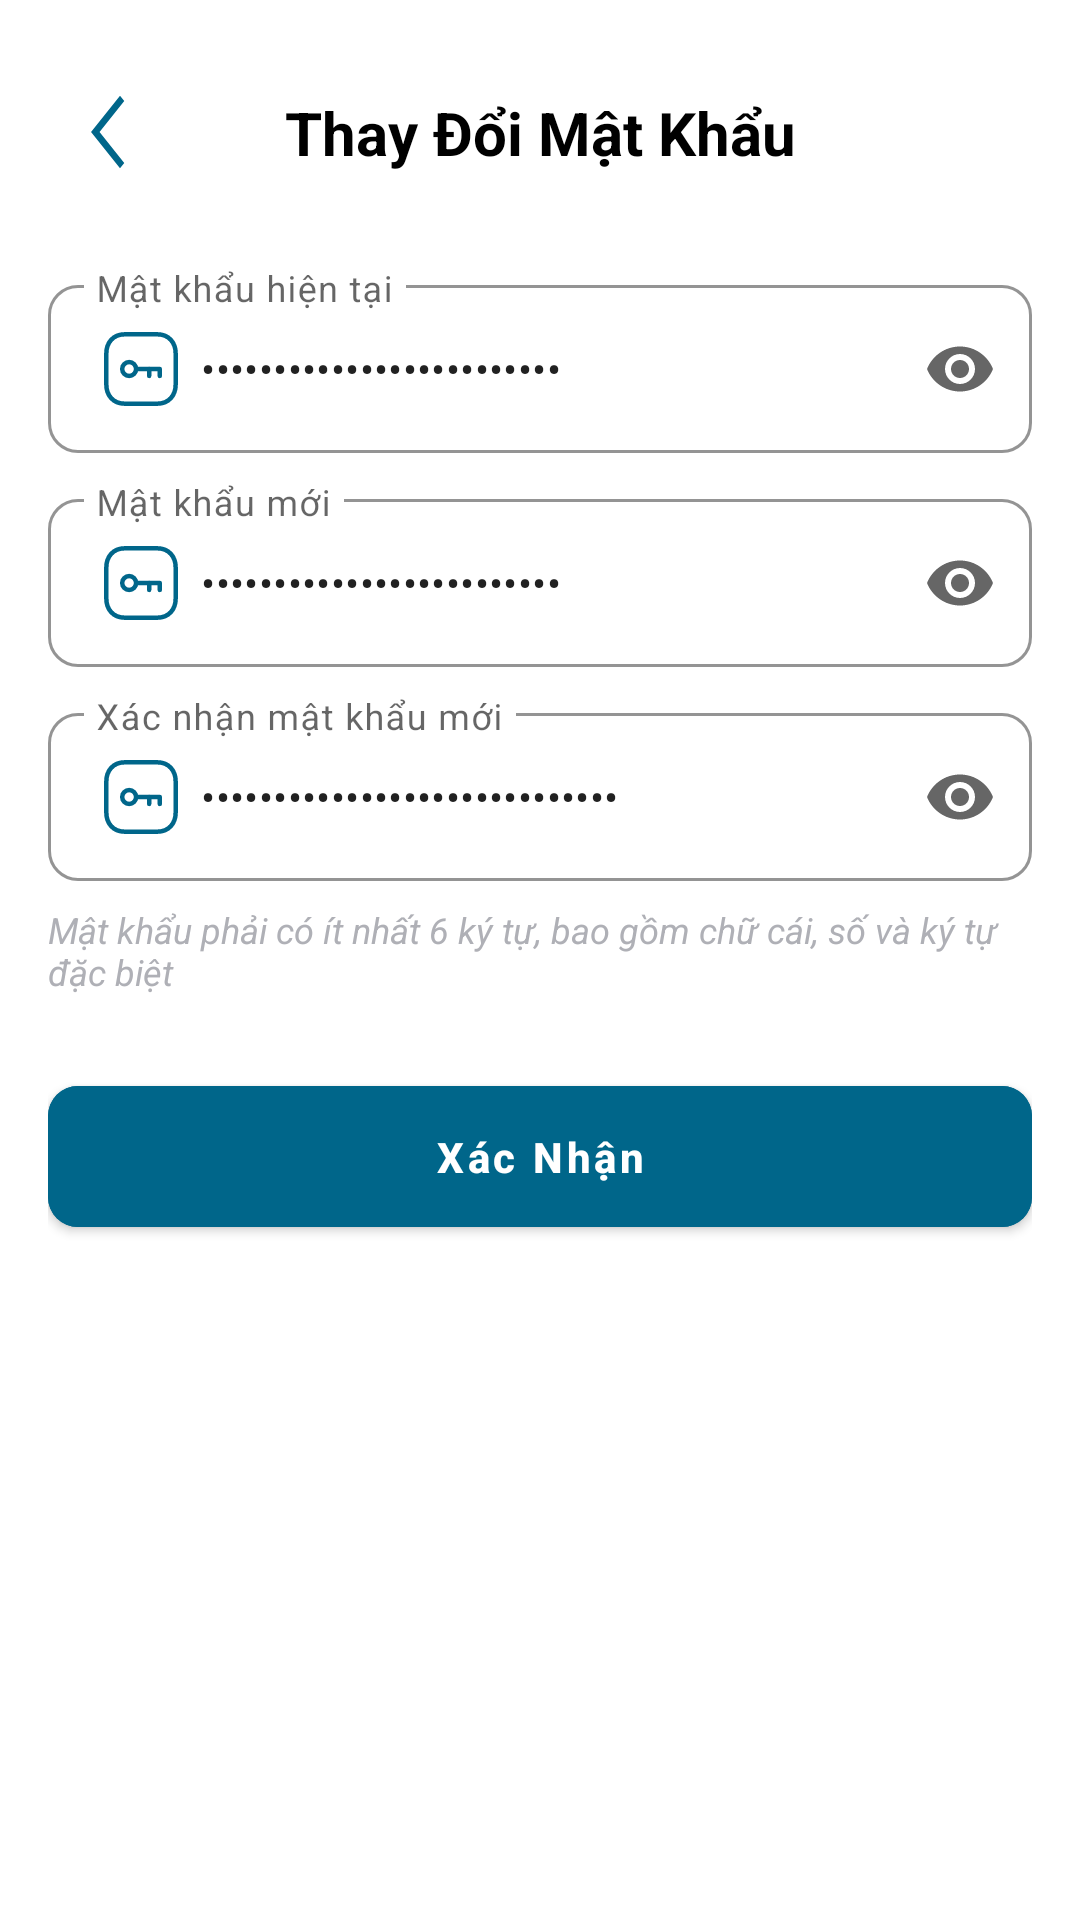

Point at icon controls on the screen. Image size 1080*1920, points as point (x, y).
Back button: point (107, 132)
